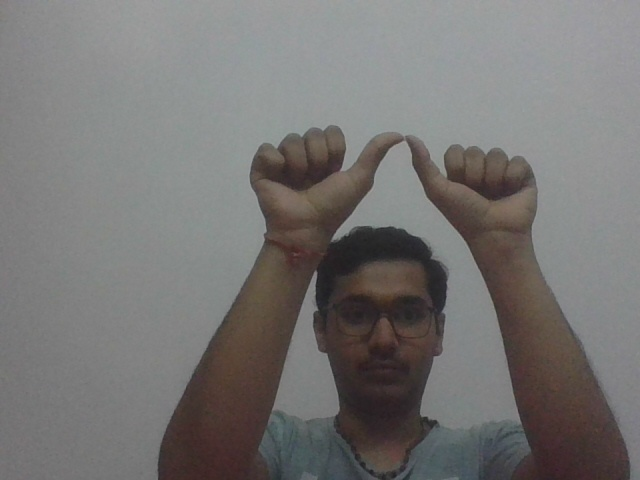A: (246, 124, 556, 237)
